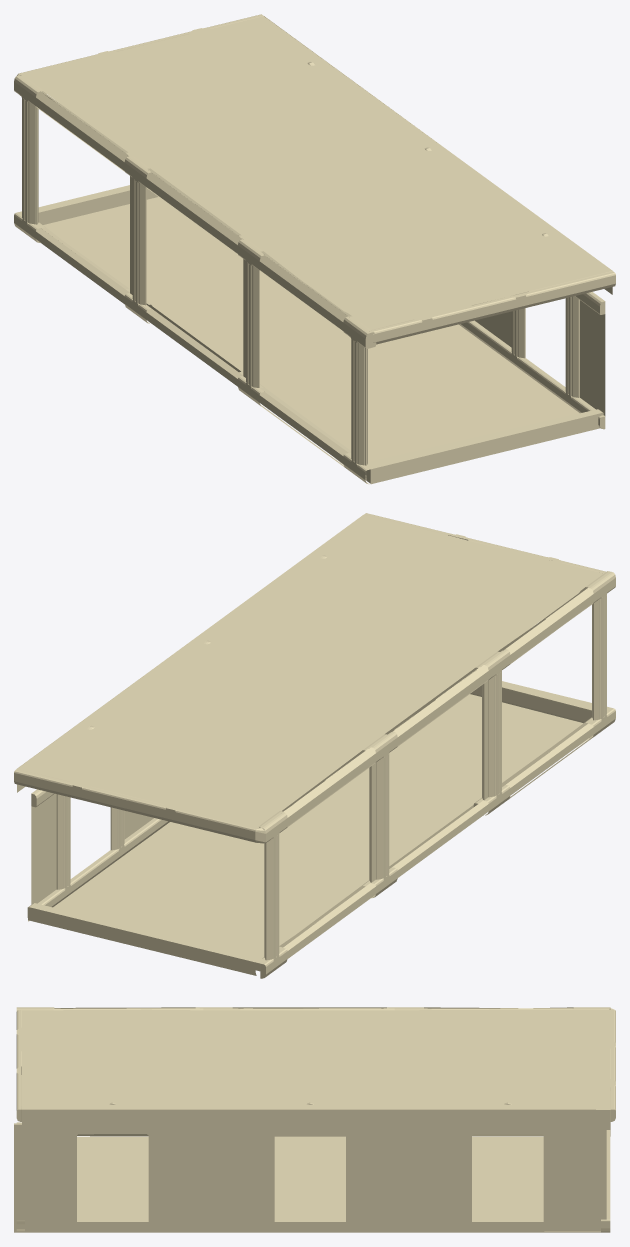
The model's file is wall.fbx.
3 views of the same model, one above another, from view 1: azimuth 30°, elevation 25°; view 2: azimuth 150°, elevation 25°; view 3: azimuth 270°, elevation 25° (orthographic). The views are drawn at different scales.
Visible parts, largest first — view 1: Cube.011, Cube.008; view 2: Cube.011, Cube.008; view 3: Cube.011, Cube.008.
Boxes of the visible parts, <box> form: Cube.011: <box>14,14,615,484</box>; Cube.008: <box>307,62,605,429</box>; Cube.011: <box>14,513,615,978</box>; Cube.008: <box>31,555,327,907</box>; Cube.011: <box>16,1007,615,1232</box>; Cube.008: <box>14,1102,606,1232</box>.
Size of the model in its own units: 12058 by 7016 by 29727.
